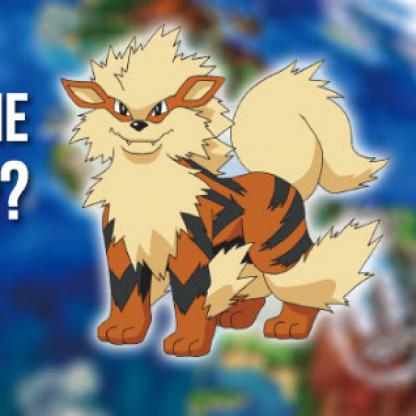Arcanine: (69, 34, 396, 352)
